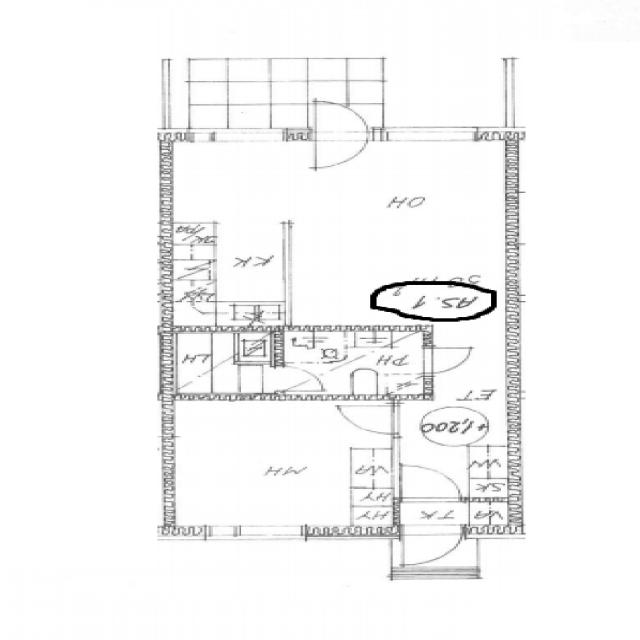door: (301, 96, 373, 172), (393, 521, 473, 572), (397, 462, 463, 503), (334, 400, 403, 436), (264, 364, 327, 394), (418, 343, 476, 375)
window: (372, 122, 488, 148), (195, 522, 312, 544)
zone: (285, 140, 514, 328), (160, 396, 399, 536), (168, 140, 296, 324), (166, 328, 274, 396), (396, 522, 470, 570)
